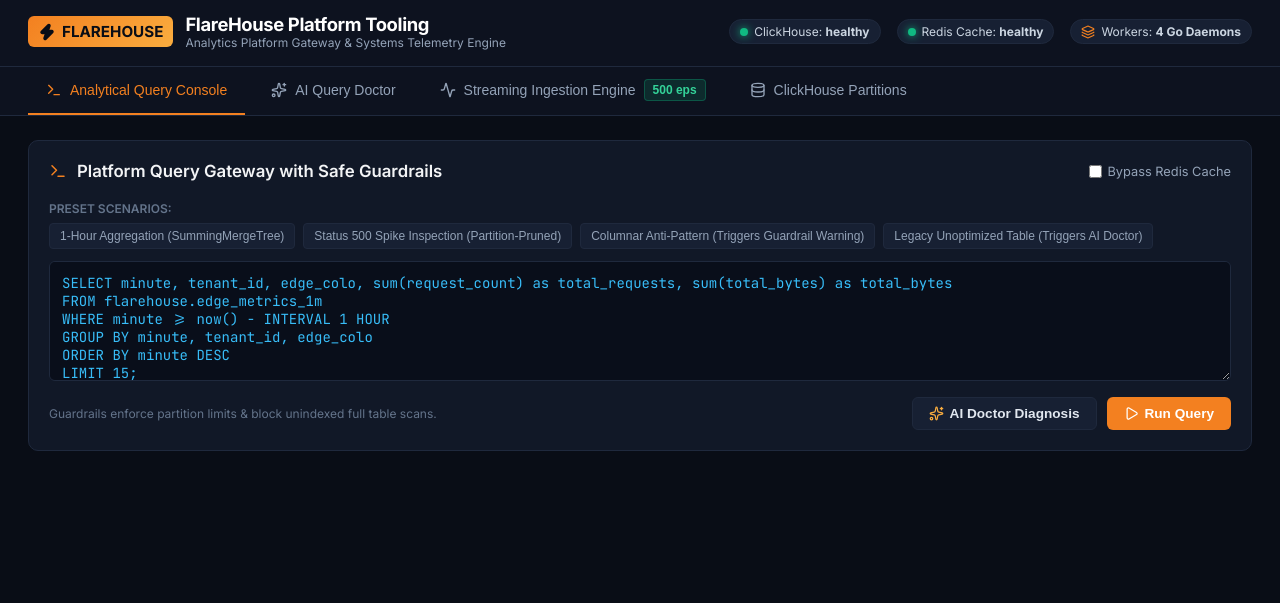
Guardrail Warning User Flow › displays the guardrail warning banner when a blocked query is submitted, and transitions to AI Doctor
The width and height of the screenshot is (1280, 603).
Click the button "Columnar Anti-Pattern (Triggers Guardrail Warning)".
click(728, 236)  # box x1=580 y1=223 x2=875 y2=249
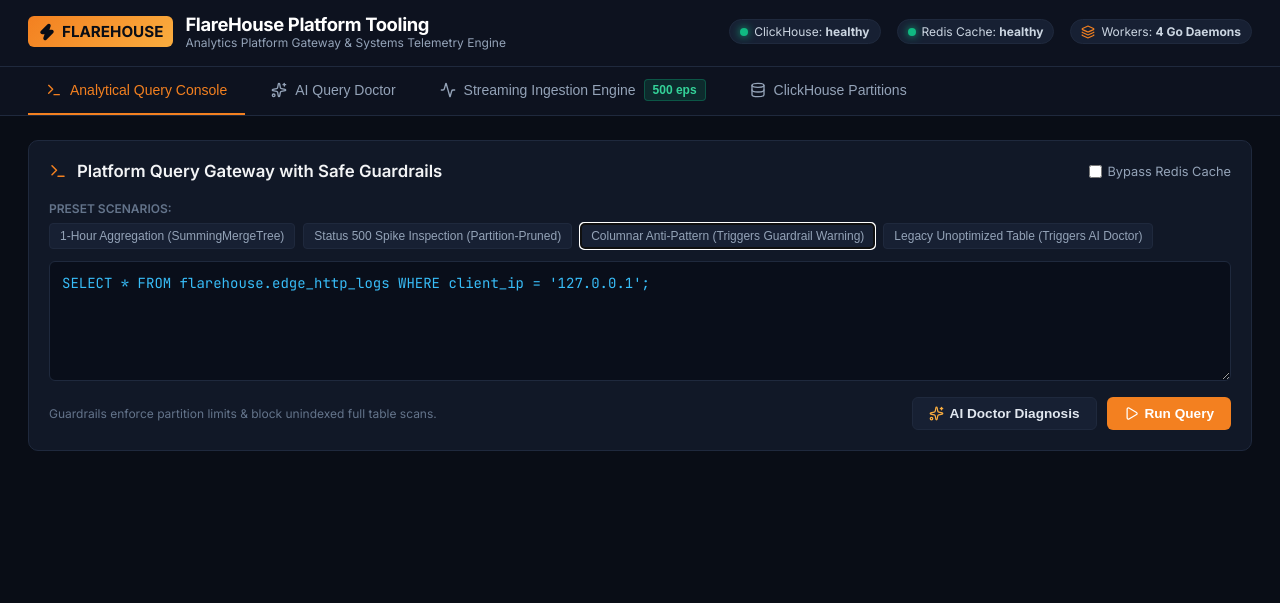
# Click "Run Query"
Click the button "Run Query".
click(1169, 414)  # box x1=1106 y1=397 x2=1231 y2=430
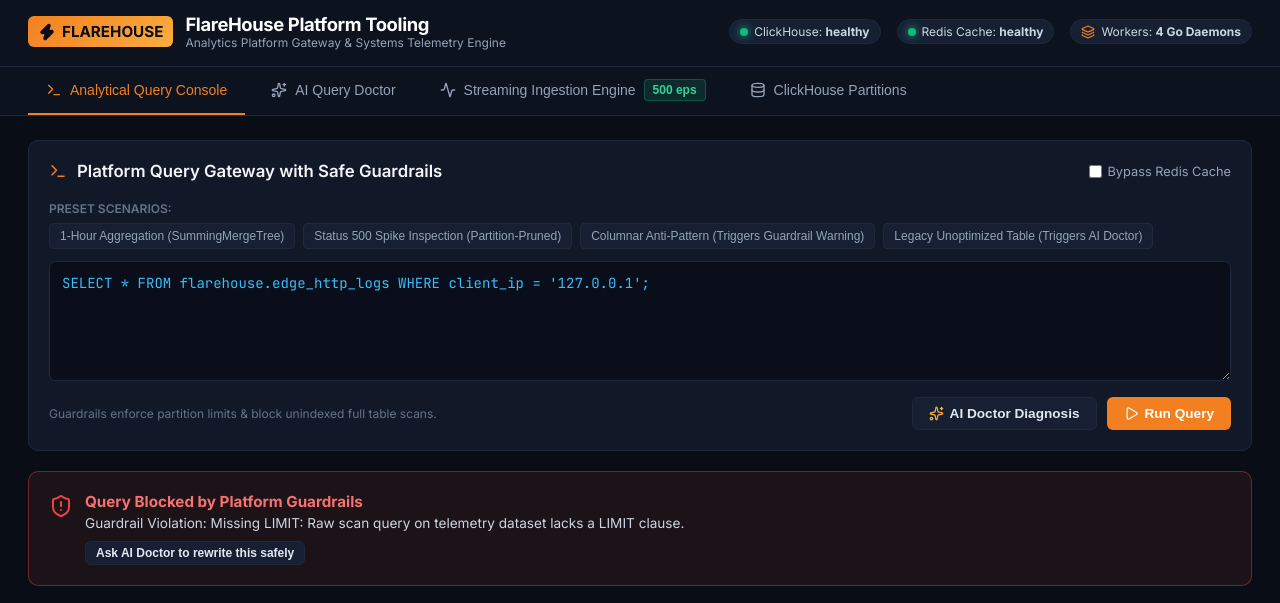
Result: the message is shown at x1=28 y1=471 x2=1252 y2=586
Result: the heading "Query Blocked by Platform Guardrails" is shown at x1=85 y1=492 x2=363 y2=511
Result: the text "Missing LIMIT: Raw scan query on telemetry dataset" is shown at x1=85 y1=515 x2=684 y2=531
Click the button "Ask AI Doctor to rewrite this safely".
click(195, 553)  # box x1=85 y1=541 x2=305 y2=565
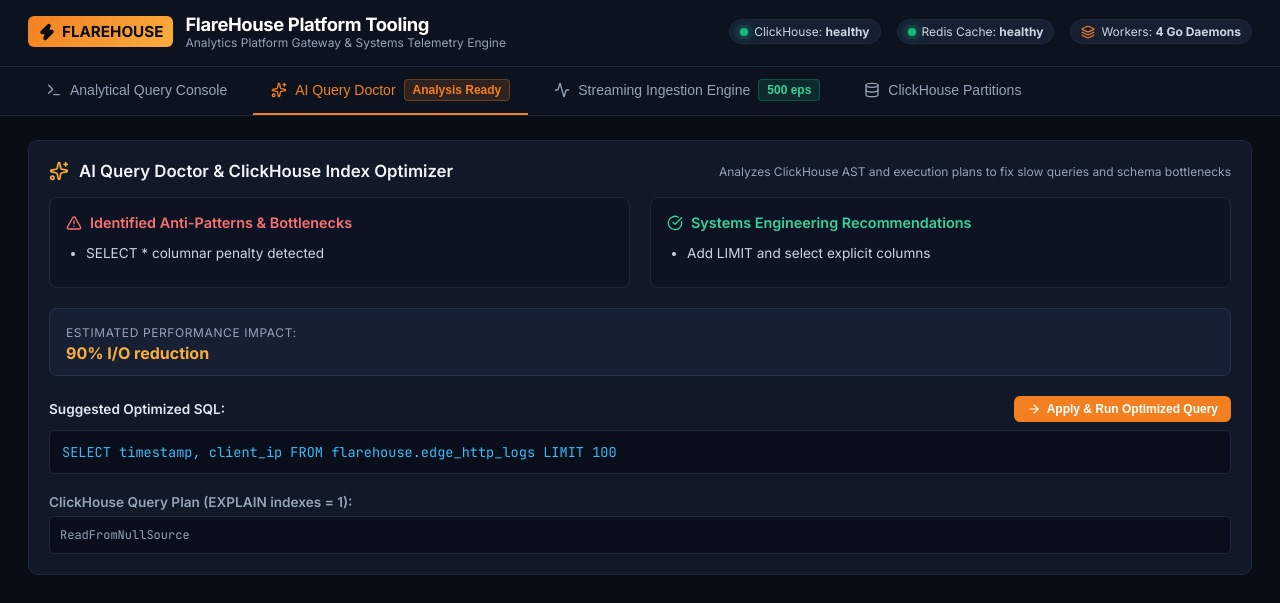
Result: the text "AI Query Doctor & ClickHouse Index Optimizer" is shown at x1=79 y1=161 x2=453 y2=181
Result: the list item "SELECT * columnar penalty detected" is shown at x1=86 y1=245 x2=324 y2=261
Result: the list item "Add LIMIT and select explicit columns" is shown at x1=687 y1=245 x2=930 y2=261
